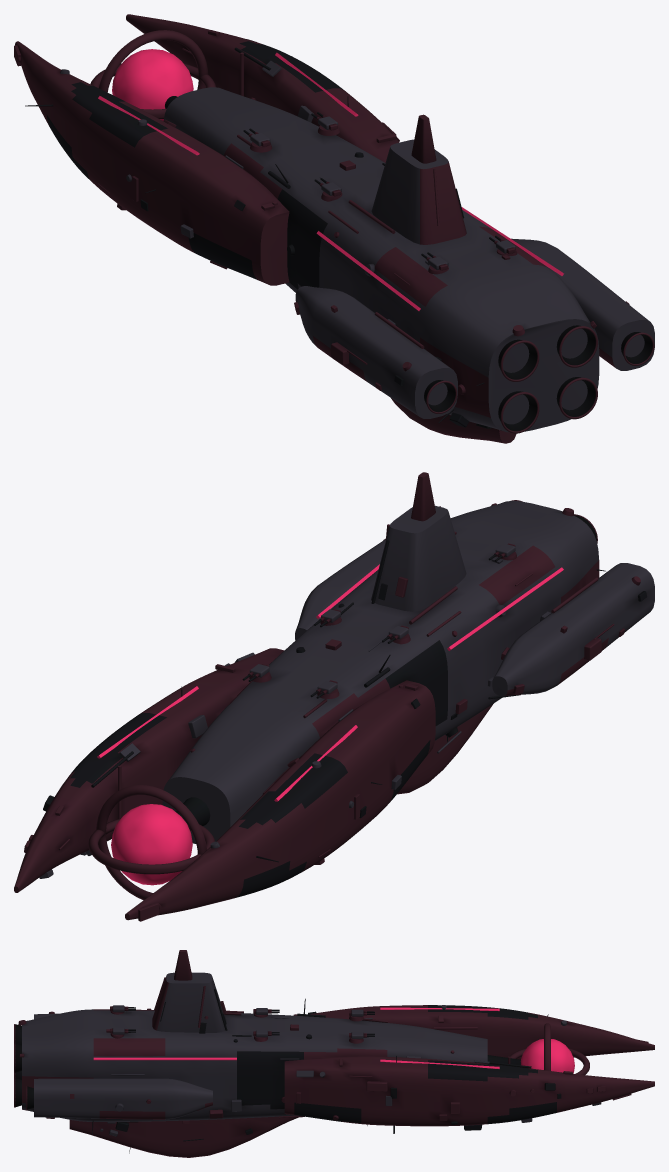
File: warden-transformed.glb
3 renders of one model, top to bottom at view 1: azimuth 30°, elevation 25°; view 2: azimuth 150°, elevation 25°; view 3: azimuth 270°, elevation 25°, orthographic. The views are drawn at different scales.
Visible parts, largest first — view 1: warden; view 2: warden; view 3: warden.
Boxes of the visible parts, x1,y1,x2,y2 form: warden: (14, 14, 654, 443); warden: (14, 472, 654, 921); warden: (14, 950, 654, 1157).
Bounding box in the file's own units: 162 × 184 × 520.
